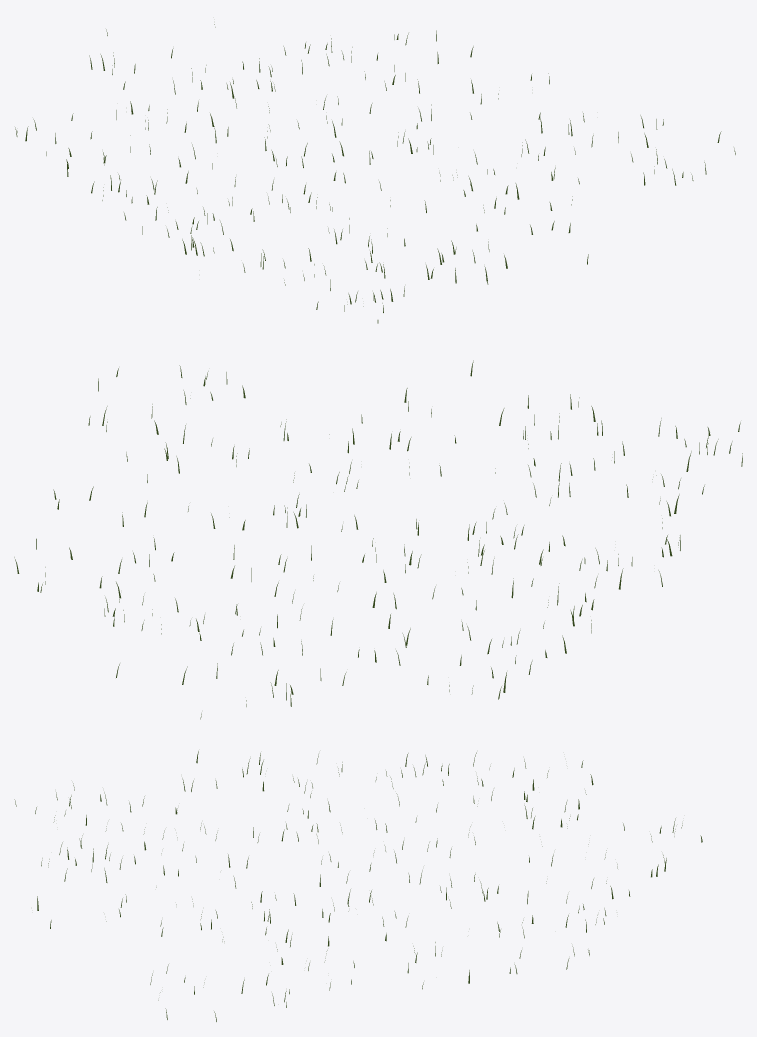
3 renders of one model, top to bottom at view 1: azimuth 30°, elevation 25°; view 2: azimuth 150°, elevation 25°; view 3: azimuth 270°, elevation 25°, orthographic. The views are drawn at different scales.
Parts seen in each view (by area): view 1: GrassPatch; view 2: GrassPatch; view 3: GrassPatch.
Boxes of the visible parts, bbox=[...] form: GrassPatch: bbox=[15, 24, 735, 323]; GrassPatch: bbox=[14, 360, 742, 719]; GrassPatch: bbox=[14, 751, 702, 1021].
Bounding box in the file's own units: 15.31 × 0.4919 × 18.14.
